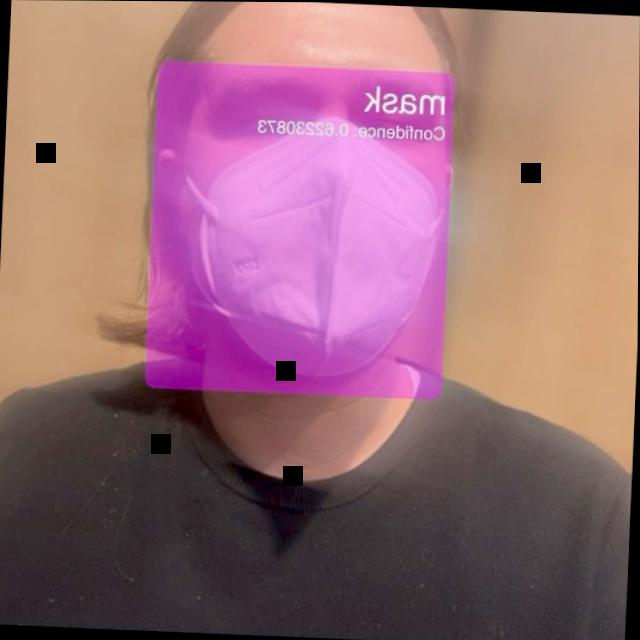Mask: (110, 1, 486, 391)
